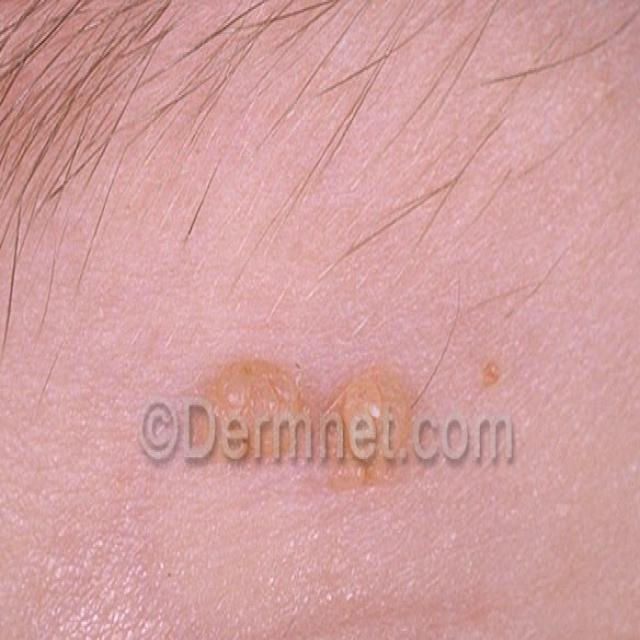Warts: (172, 294, 512, 500)
